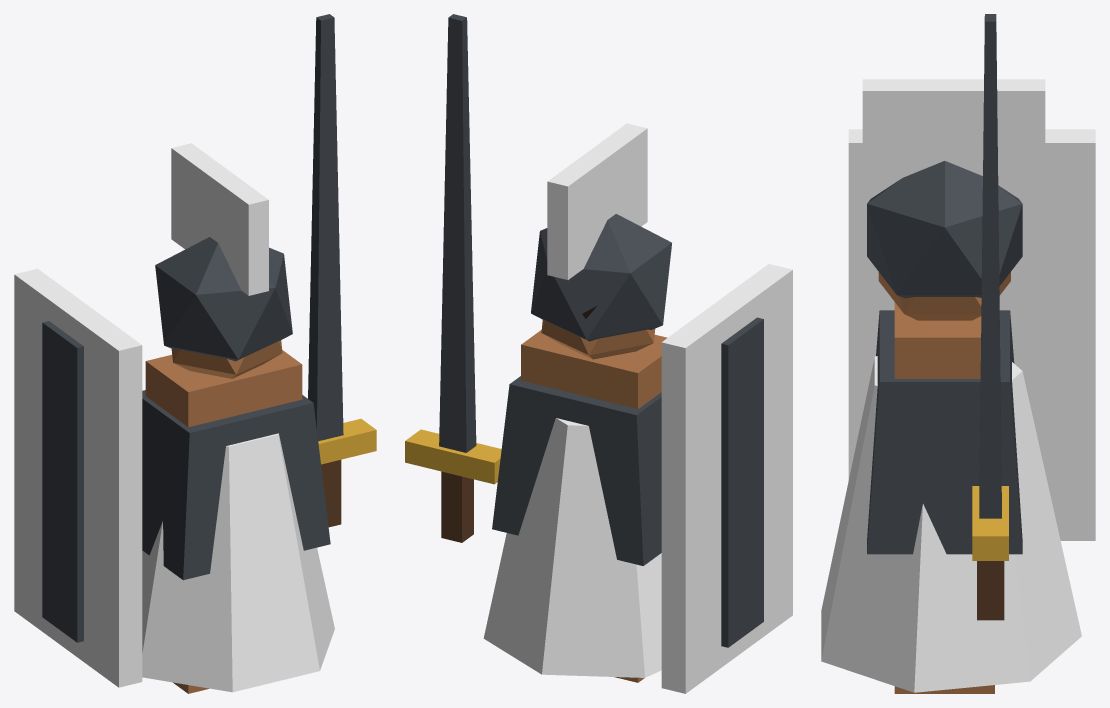
File: warrior_iron.glb
3 renders of one model, left to right at view 1: azimuth 30°, elevation 25°; view 2: azimuth 150°, elevation 25°; view 3: azimuth 270°, elevation 25°, orthographic. The views are drawn at different scales.
Parts seen in each view (by area): view 1: part.012, part, part.008, part.013, part.006, part.009, part.007, part.003, part.004, part.010, part.011; view 2: part.012, part, part.008, part.013, part.009, part.006, part.007, part.003, part.010, part.011, part.004; view 3: part, part.012, part.008, part.007, part.006, part.009, part.003, part.004, part.010, part.011, part.002.
Boxes of the visible parts, x1=… form: part.012: x1=14, y1=268, x2=142, y2=687; part: x1=142, y1=433, x2=334, y2=692; part.008: x1=142, y1=390, x2=330, y2=580; part.013: x1=42, y1=321, x2=83, y2=642; part.006: x1=155, y1=237, x2=292, y2=361; part.009: x1=308, y1=14, x2=343, y2=441; part.007: x1=171, y1=143, x2=268, y2=295; part.003: x1=145, y1=350, x2=302, y2=427; part.004: x1=171, y1=340, x2=282, y2=378; part.010: x1=318, y1=418, x2=376, y2=464; part.011: x1=321, y1=460, x2=341, y2=527; part.012: x1=661, y1=264, x2=792, y2=693; part: x1=483, y1=418, x2=661, y2=677; part.008: x1=492, y1=376, x2=661, y2=565; part.013: x1=721, y1=317, x2=763, y2=647; part.009: x1=439, y1=14, x2=476, y2=452; part.006: x1=531, y1=214, x2=671, y2=341; part.007: x1=547, y1=123, x2=647, y2=279; part.003: x1=521, y1=330, x2=667, y2=408; part.010: x1=405, y1=429, x2=501, y2=484; part.011: x1=441, y1=471, x2=473, y2=542; part.004: x1=541, y1=320, x2=655, y2=359; part: x1=821, y1=356, x2=1081, y2=692; part.012: x1=848, y1=129, x2=1095, y2=540; part.008: x1=867, y1=310, x2=1022, y2=554; part.007: x1=862, y1=79, x2=1045, y2=198; part.006: x1=867, y1=161, x2=1022, y2=298; part.009: x1=979, y1=14, x2=1001, y2=518; part.003: x1=894, y1=302, x2=981, y2=378; part.004: x1=878, y1=272, x2=1010, y2=320; part.010: x1=972, y1=486, x2=1008, y2=560; part.011: x1=977, y1=561, x2=1004, y2=620; part.002: x1=894, y1=685, x2=994, y2=693.
Size of the model in its own units: 0.4725 by 0.86 by 0.3001.
